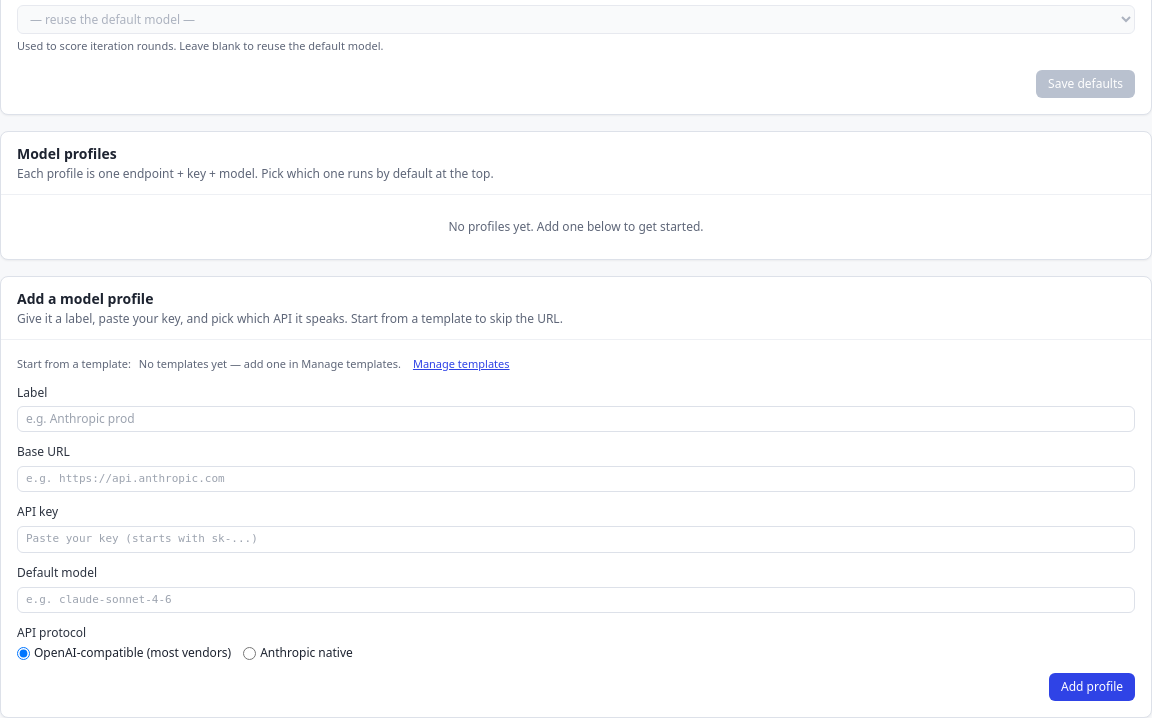
Test case: Settings page — multi-provider profile UI › add flow POSTs the typed key, clears the input, and shows the masked preview
(page scrolled)
Type "My profile" into the field with placeholder "e.g. Anthropic prod" at (576, 418), box [17,406,1135,432]
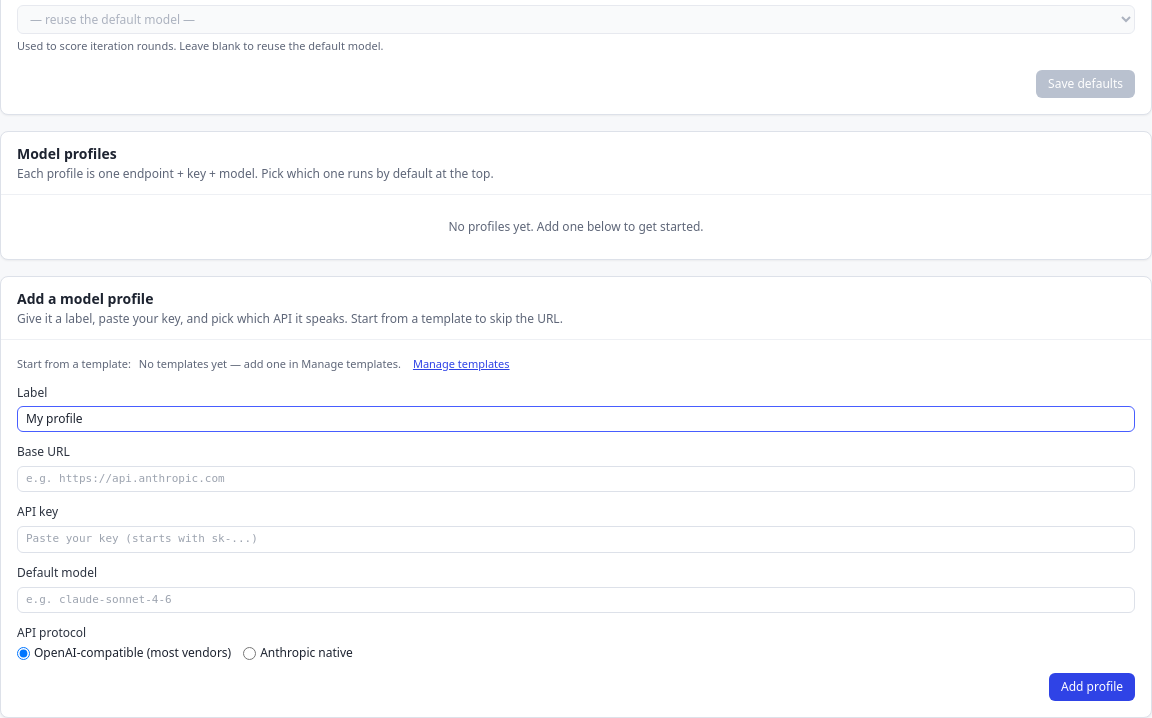
Type "https://api.openai.com/v1" into the field with placeholder "e.g. https://api.anthropic.com" at (576, 479), box [17,466,1135,492]
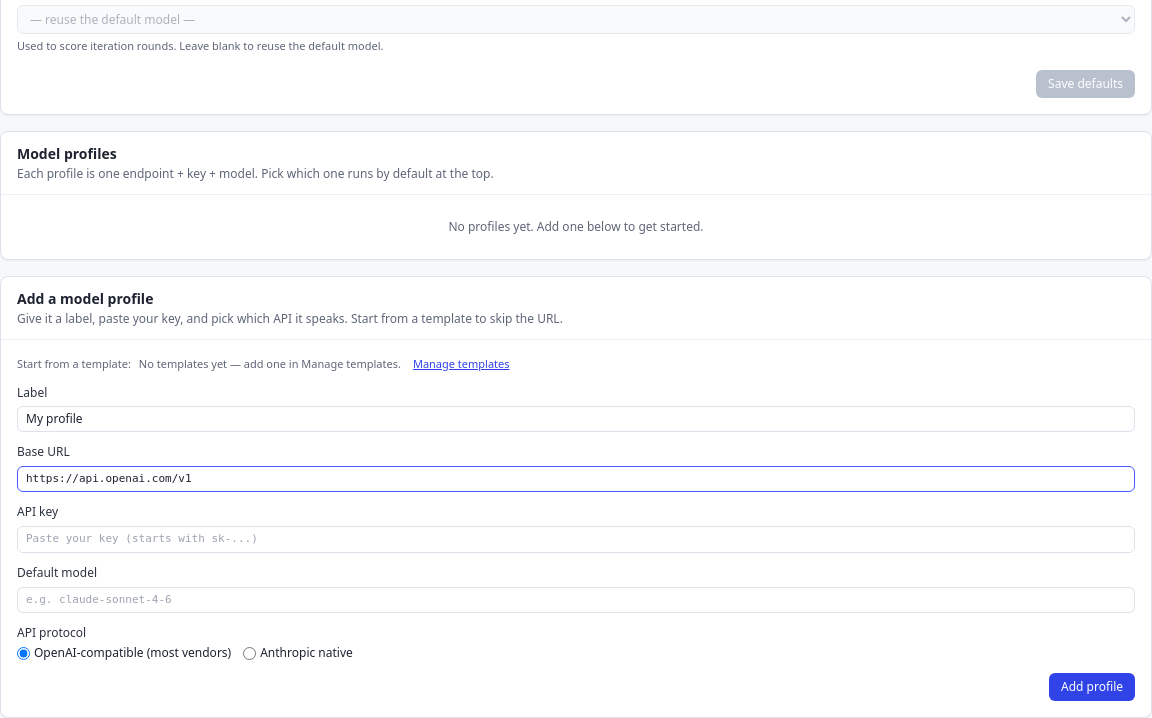
Type "gpt-4o-mini" into the field with placeholder "e.g. claude-sonnet-4-6" at (576, 600), box [17,586,1135,613]
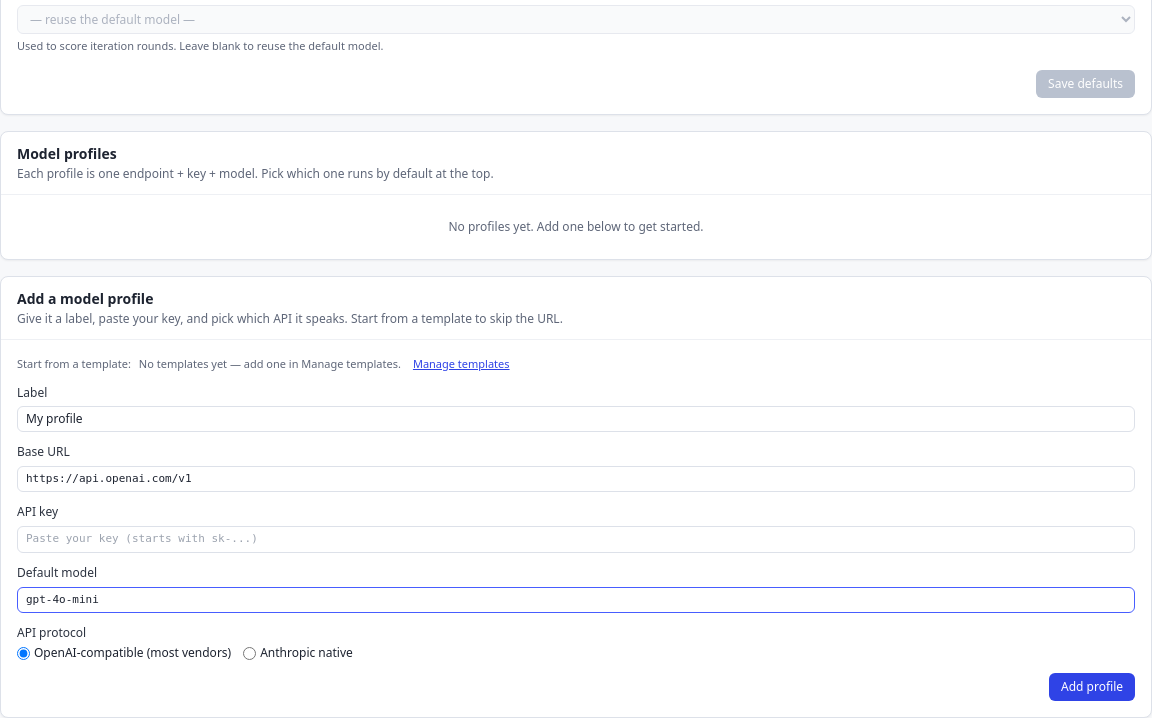
Type "sk-typed-key-VVVVVVVVVVVV" into the password field with placeholder "Paste your key (starts with sk-...)" at (576, 539), box [17,526,1135,552]
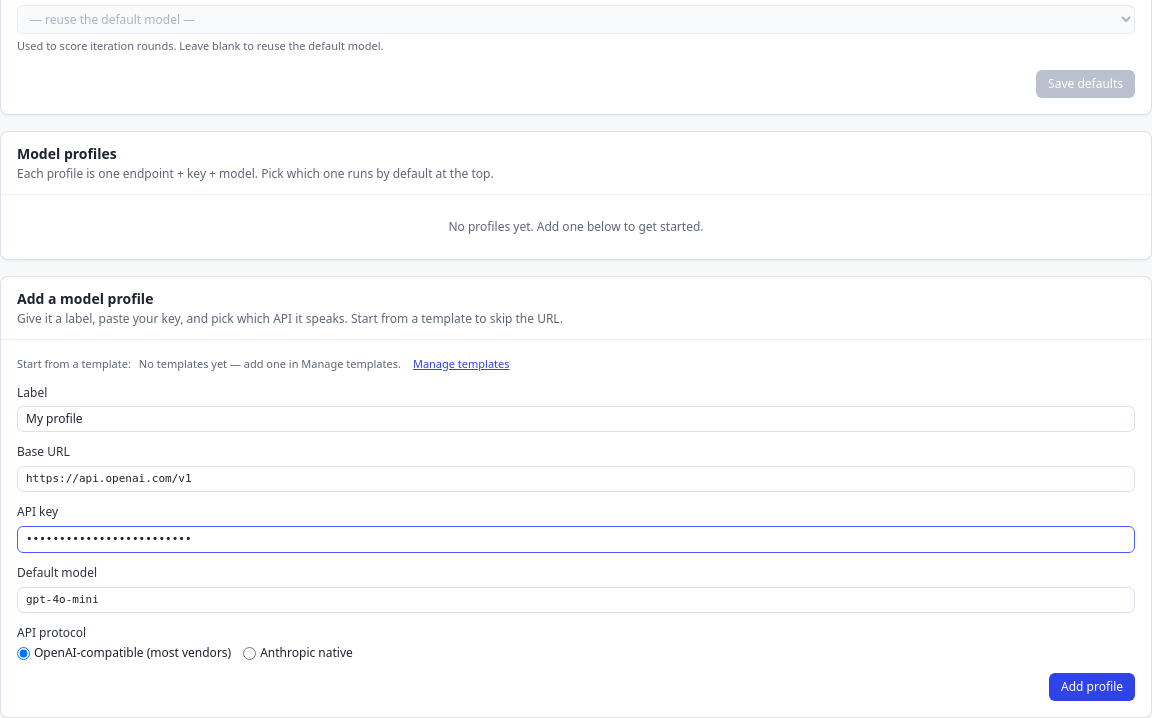
Click the button "Add profile" at (1092, 687), box [1049,673,1135,701]
(page scrolled)
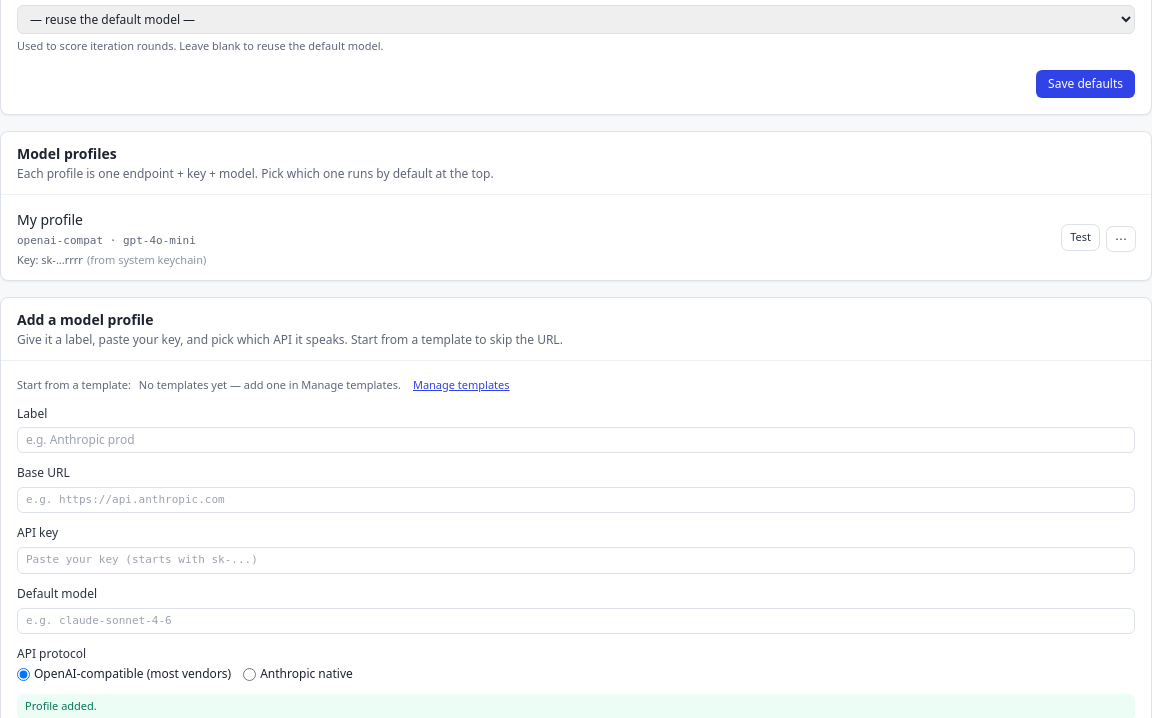
Result: the button "My profile" is shown at [17,210,83,230]
Result: the password field with placeholder "Paste your key (starts with sk-...)" is empty at [17,547,1135,574]
Result: the text "Key: sk-...rrrr(from system keychain)" is shown at [17,252,206,268]
